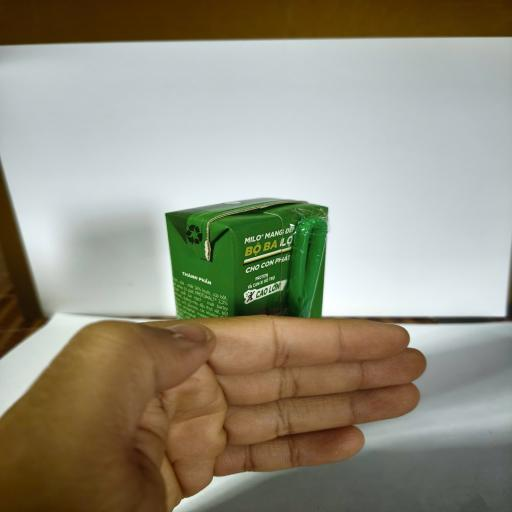milo: (165, 198, 328, 319)
